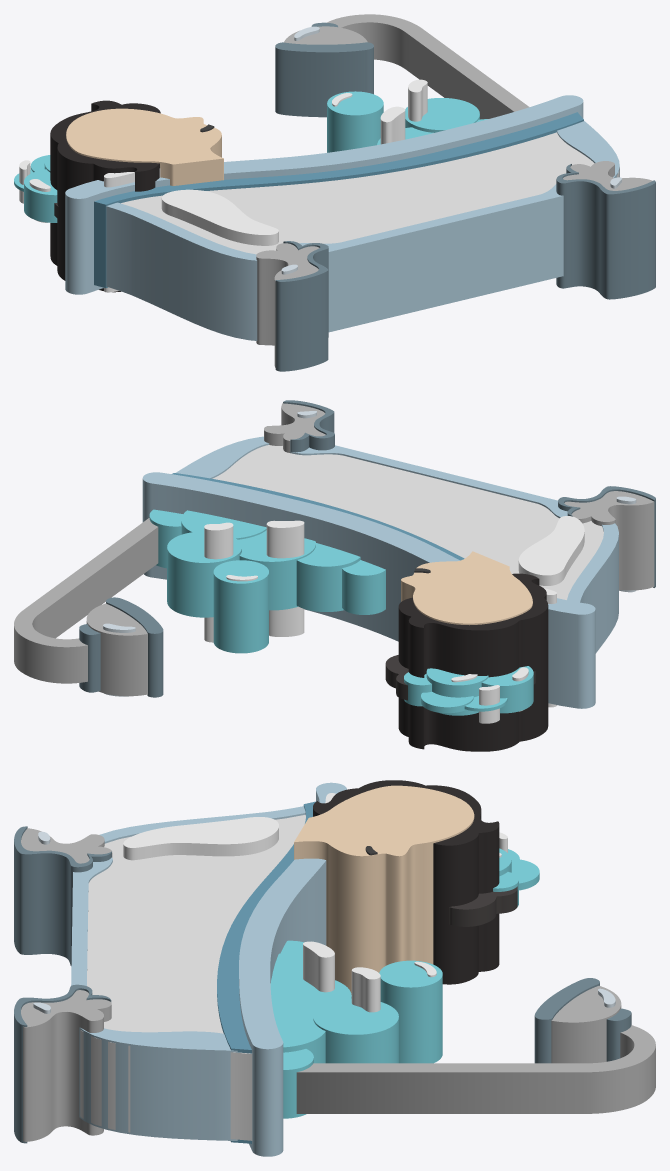
The model's file is emoji_u1f6c0_1f3fb.glb.
3 views of the same model, one above another, from view 1: azimuth 30°, elevation 25°; view 2: azimuth 150°, elevation 25°; view 3: azimuth 270°, elevation 25° (orthographic). The views are drawn at different scales.
Visible parts, largest first — view 1: emoji_u1f6c0_1f3fb; view 2: emoji_u1f6c0_1f3fb; view 3: emoji_u1f6c0_1f3fb.
Boxes of the visible parts, x1,y1,x2,y2 form: emoji_u1f6c0_1f3fb: [14, 14, 655, 371]; emoji_u1f6c0_1f3fb: [14, 400, 655, 751]; emoji_u1f6c0_1f3fb: [14, 780, 655, 1156].
Size of the model in its own units: 0.0329 by 0.0084 by 0.0335.
